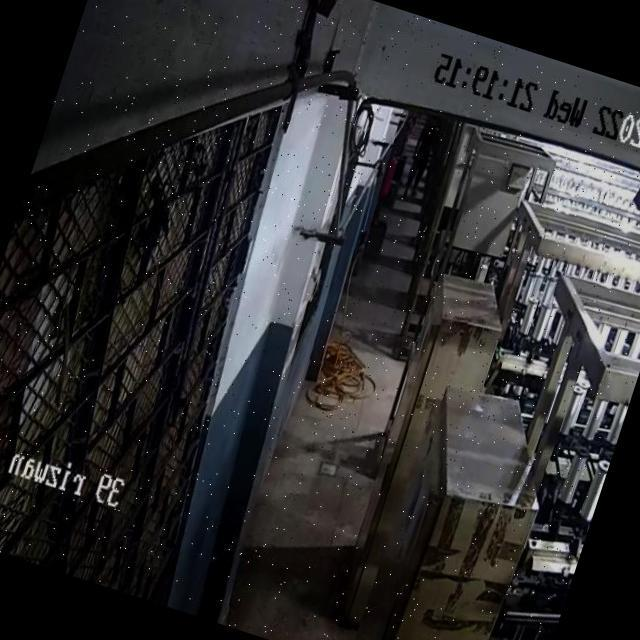person: (398, 109, 444, 205)
